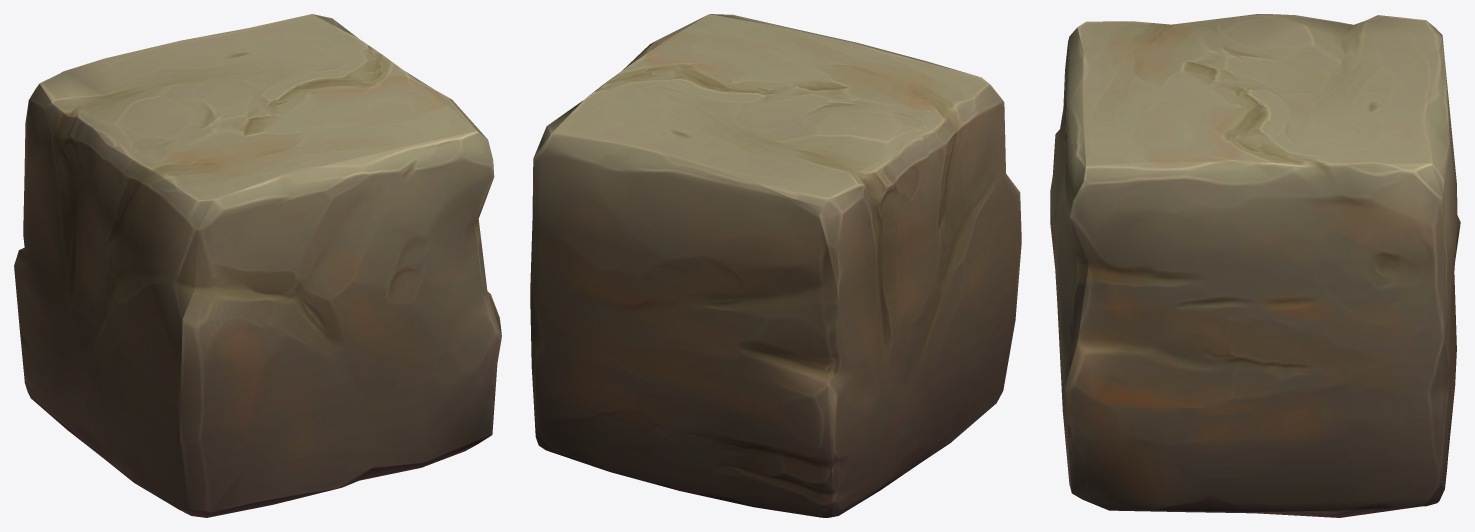
The model's file is Rock.fbx.
The picture shows the model from 3 angles, left to right: view 1: azimuth 30°, elevation 25°; view 2: azimuth 150°, elevation 25°; view 3: azimuth 270°, elevation 25°; orthographic projection. The views are drawn at different scales.
Parts seen in each view (by area): view 1: 13-_cube_rock_A_LOD4_; view 2: 13-_cube_rock_A_LOD4_; view 3: 13-_cube_rock_A_LOD4_.
Part boxes in pixels (x1,y1,x2,y2): 13-_cube_rock_A_LOD4_: [14, 14, 501, 517]; 13-_cube_rock_A_LOD4_: [530, 14, 1021, 517]; 13-_cube_rock_A_LOD4_: [1050, 14, 1460, 517].
Bounding box in the file's own units: 1414 × 1419 × 1443.
1 material, 1 textured.
